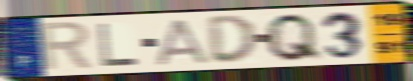3: (321, 9, 371, 62)
A: (154, 17, 211, 67)
D: (205, 13, 260, 66)
L: (95, 22, 140, 68)
Q: (264, 11, 325, 63)
R: (39, 19, 96, 74)
